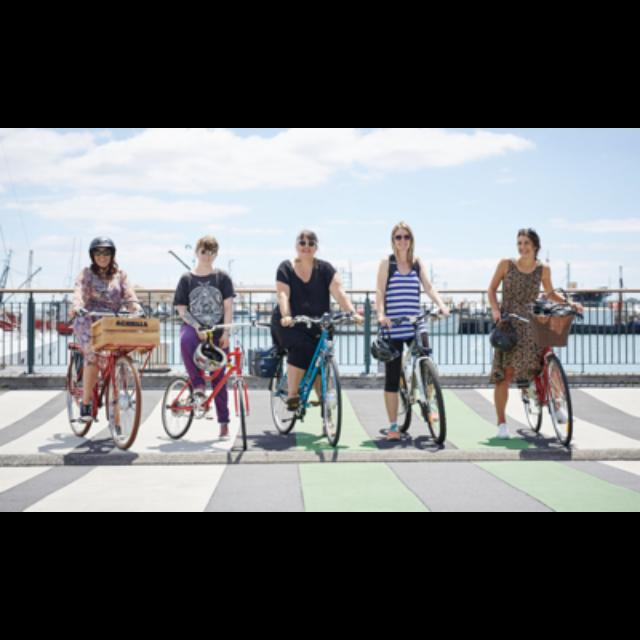Without Helmet: (84, 235, 118, 267), (510, 225, 542, 259), (192, 230, 220, 266), (388, 222, 416, 254), (293, 227, 319, 261)
